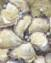Oyster-Closed: (0, 3, 22, 28), (26, 17, 48, 35)
Oyster-Open: (9, 43, 36, 63), (12, 14, 31, 38), (0, 28, 21, 48), (30, 32, 49, 51), (10, 0, 30, 13), (0, 49, 9, 63), (34, 56, 45, 63), (45, 53, 51, 63), (6, 60, 23, 63)
